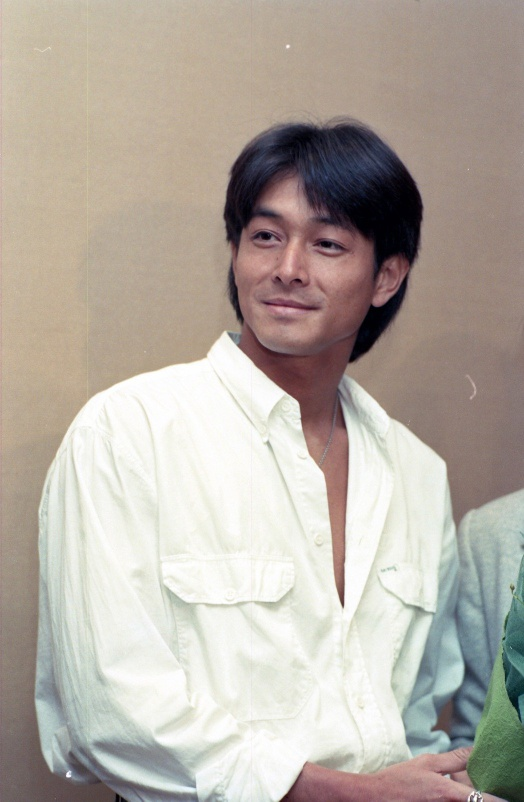male: (221, 107, 451, 393)
